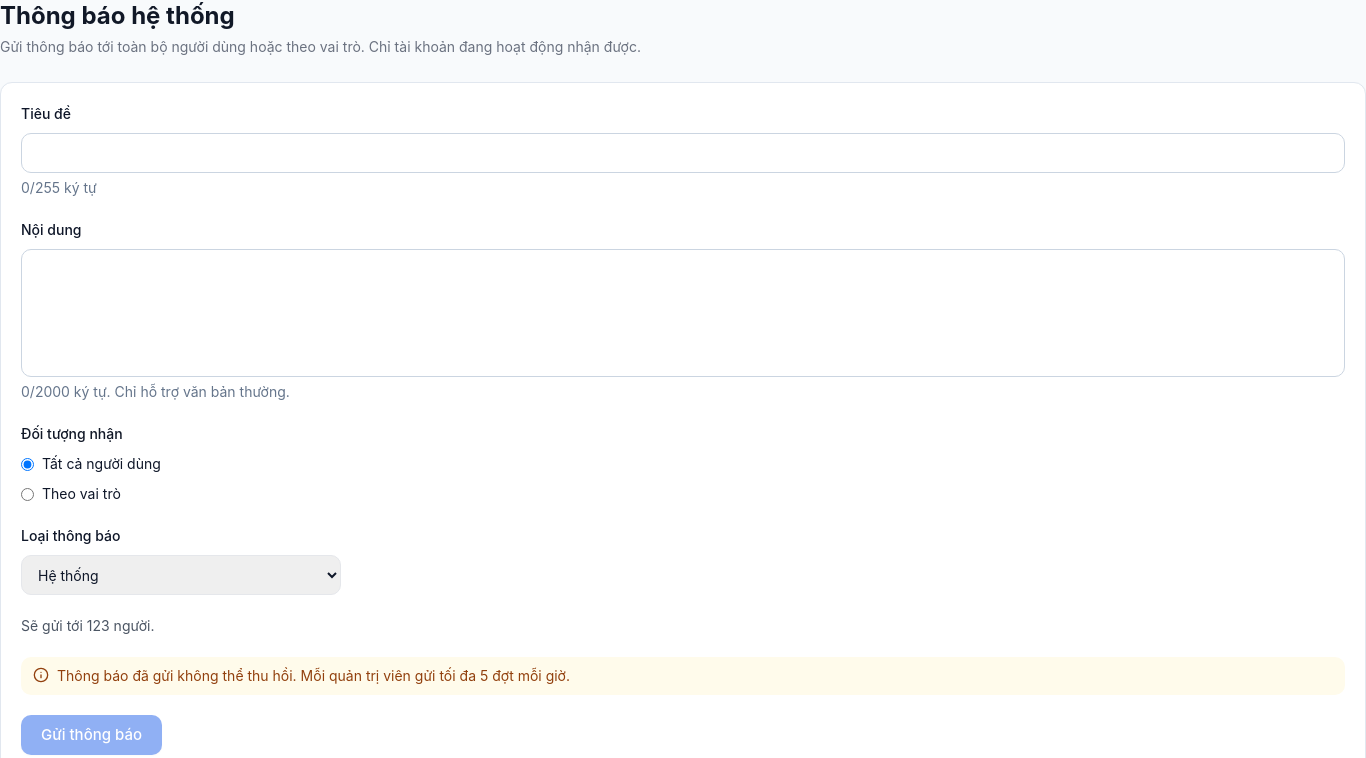
Scenario: AdminBroadcastNotificationsPage › M3: chọn loại 'Khuyến mãi' hiện gợi ý người tắt khuyến mãi bị loại khỏi số người nhận; 'Hệ thống' thì không
Expected: the text "Sẽ gửi tới 123 người." is shown, [21, 617, 154, 634]
Expected: the text "đã tắt nhận thông báo khuyến mãi" is not shown
Select "Khuyến mãi" in the dropdown labelled "Loại thông báo" at (181, 575), box [21, 555, 341, 595]
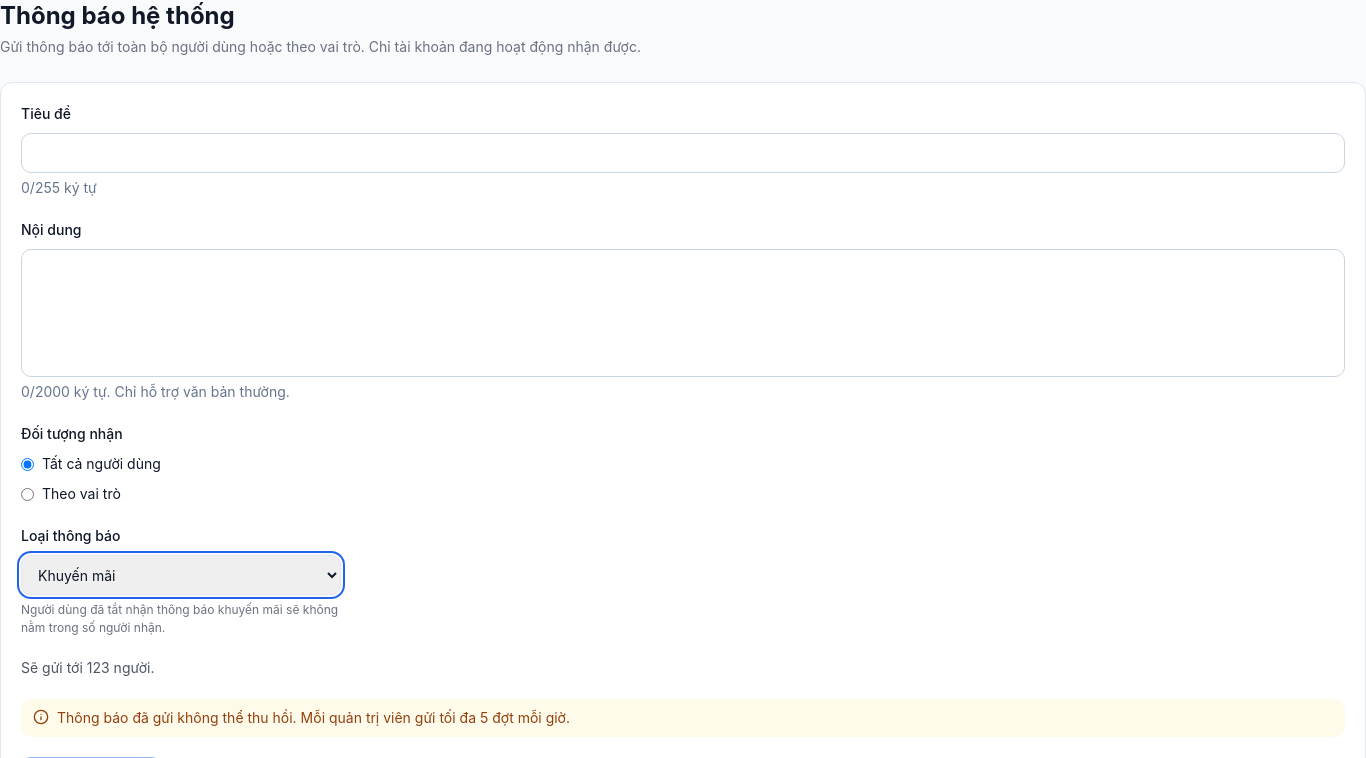
Expected: the text "đã tắt nhận thông báo khuyến mãi" is shown, [21, 602, 338, 635]
Select "Hệ thống" in the dropdown labelled "Loại thông báo" at (181, 575), box [21, 555, 341, 595]
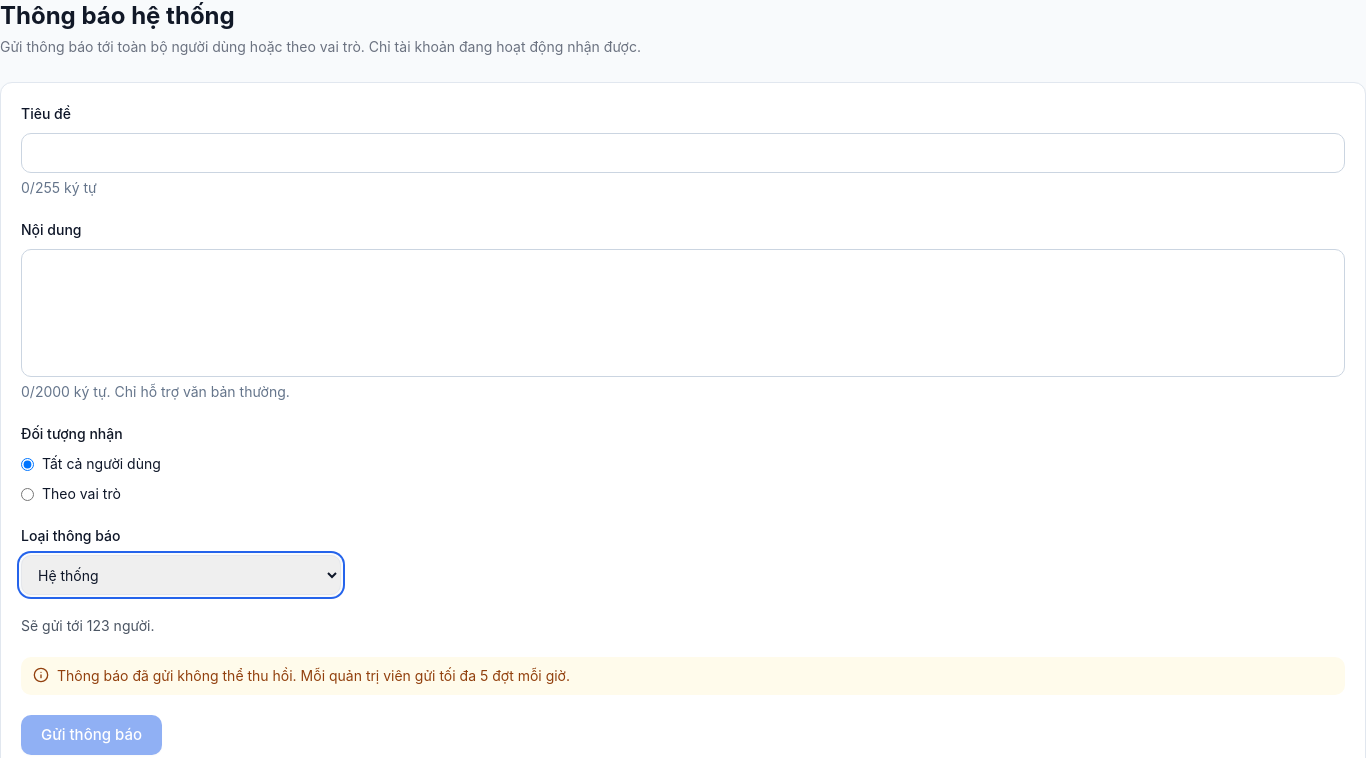
Expected: the text "đã tắt nhận thông báo khuyến mãi" is gone
